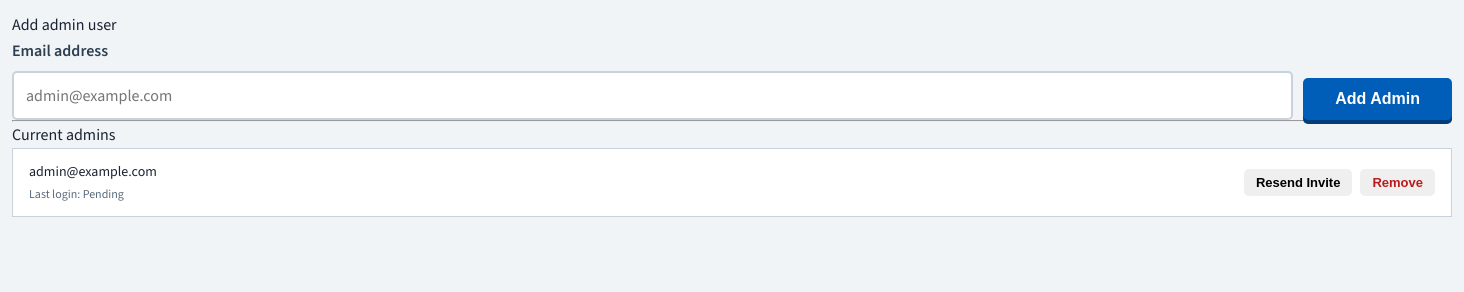
Test: UsersTab — resend invitation › shows a warning when resend succeeds but email_sent is false
What coordinates should you click on to do the following:
click the button "Resend Invite"
I would click on:
 (1298, 183)
Its box is [1244,169,1352,196].
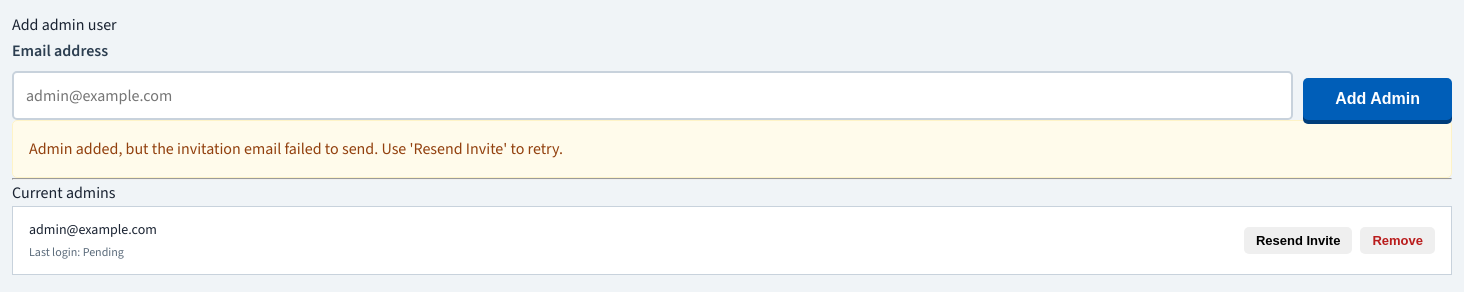
Expected: the text "invitation email failed to send" is shown, [29,138,563,159]
